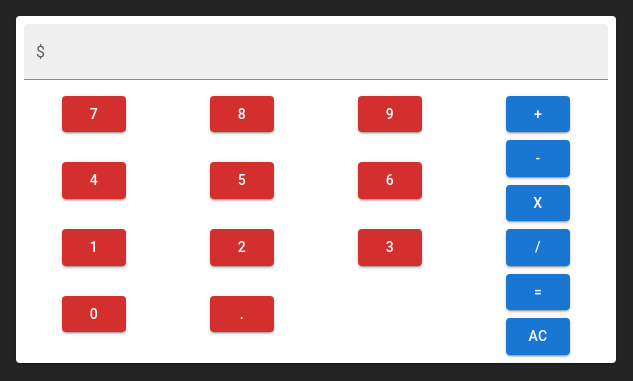
Calculator App › should correctly calculate the product of two numbers
Click the button "2".
click(242, 247)  # box 210,229 -> 274,266
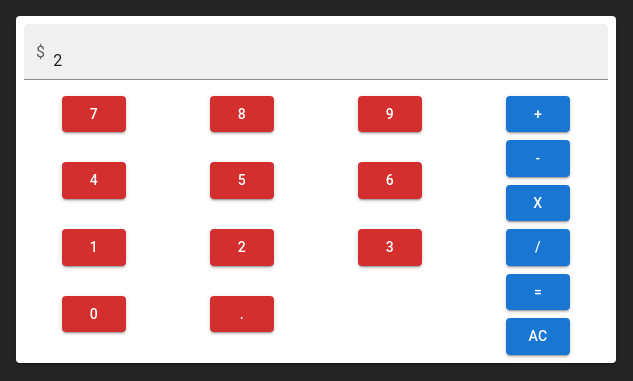
Click the button "x".
click(538, 203)  # box 506,184 -> 570,221
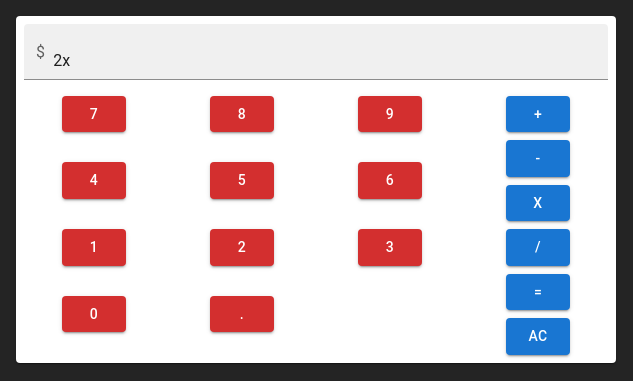
Click the button "3".
click(390, 247)  # box 358,229 -> 422,266
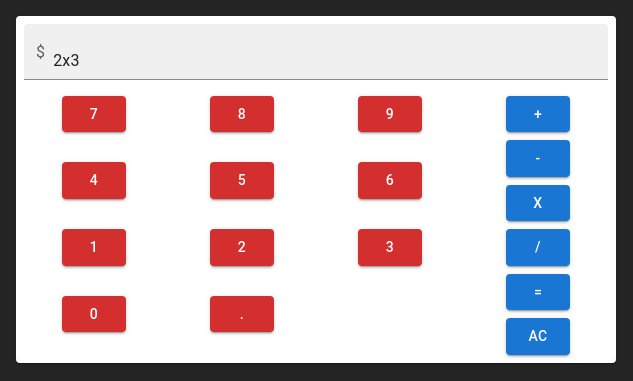
Click the button "=".
click(538, 292)  # box 506,274 -> 570,310
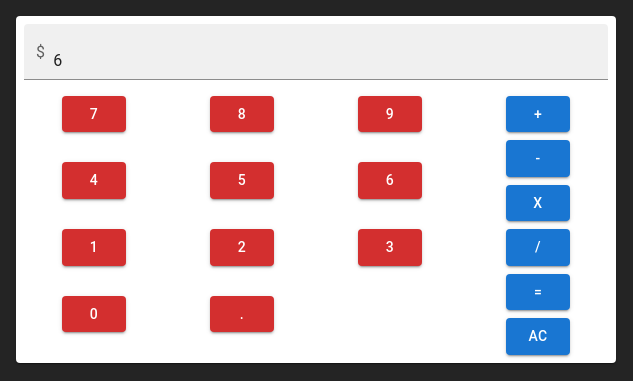
Expected: the field holds "6", 53,24 -> 608,80
